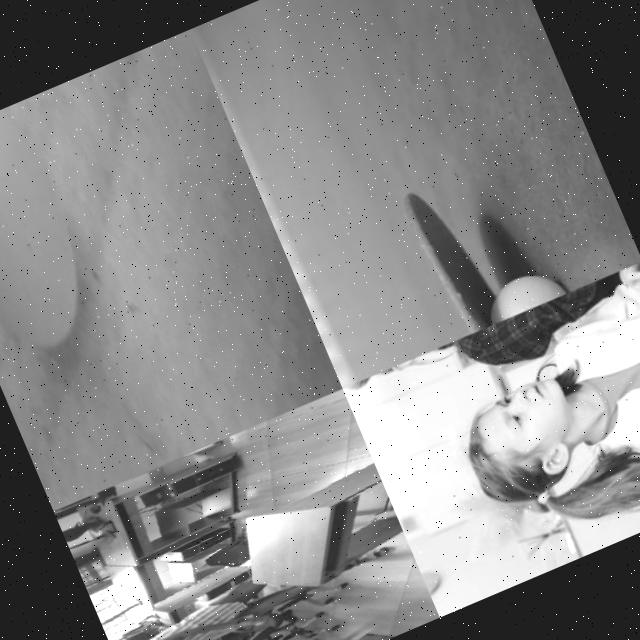ping-pong-ball: (0, 101, 107, 366), (478, 262, 568, 324), (254, 619, 264, 626)
